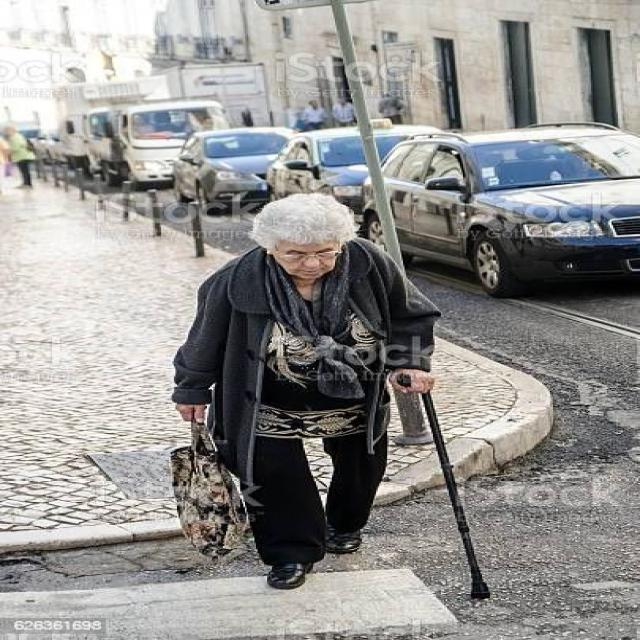idoso em pe: (153, 199, 440, 575)
